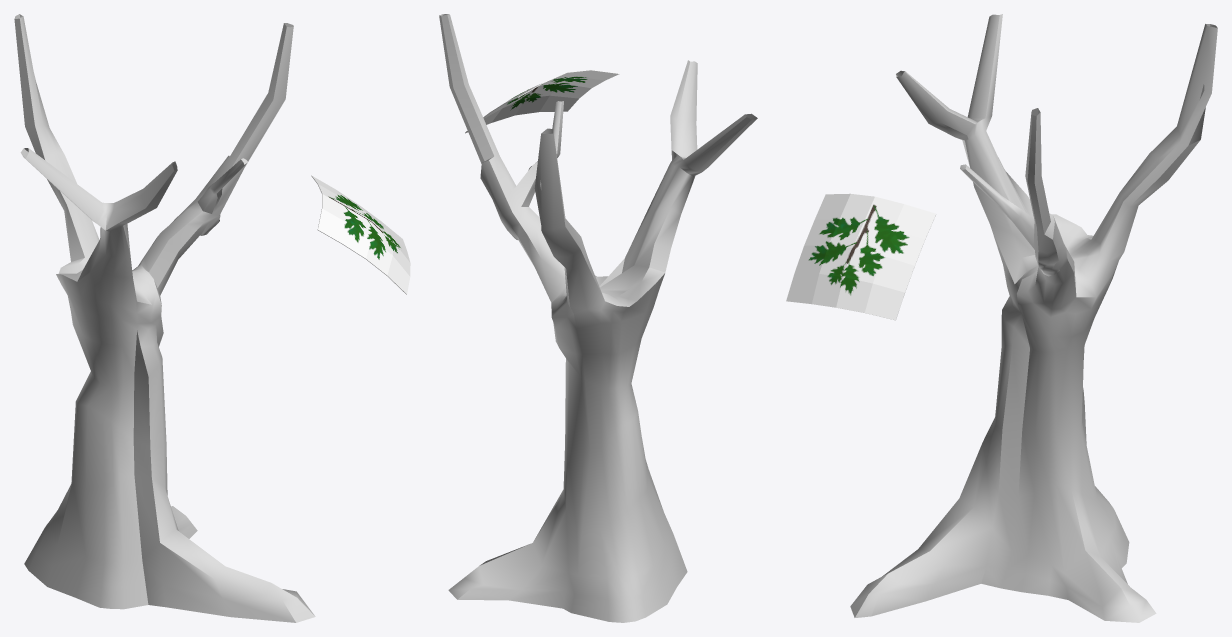
File: Tree.fbx
The picture shows the model from 3 angles, left to right: view 1: azimuth 30°, elevation 25°; view 2: azimuth 150°, elevation 25°; view 3: azimuth 270°, elevation 25°; orthographic projection. The views are drawn at different scales.
Parts seen in each view (by area): view 1: TreeBase, leafPlane; view 2: TreeBase, leafPlane; view 3: TreeBase, leafPlane.
Part boxes in pixels (box(x1,y1,x2,y2)): TreeBase: box(14, 14, 315, 622); leafPlane: box(311, 175, 410, 294); TreeBase: box(439, 14, 757, 622); leafPlane: box(465, 69, 619, 133); TreeBase: box(850, 14, 1217, 622); leafPlane: box(786, 193, 936, 320).
Bounding box in the file's own units: 5.56 × 8.27 × 5.99.
